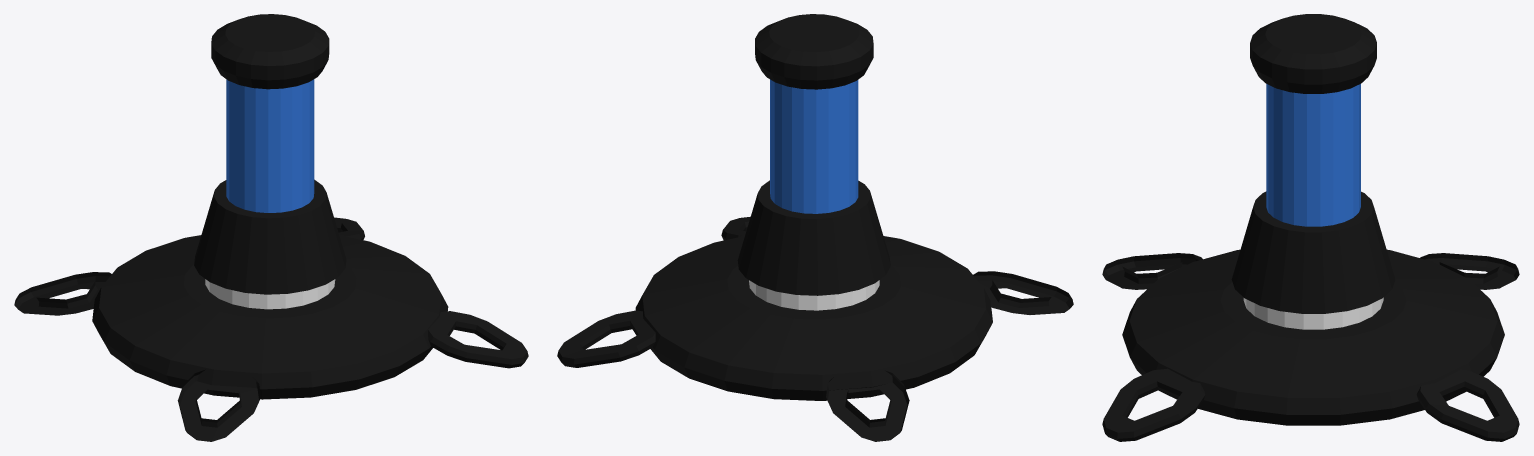
File: Latarnia.obj
3 views of the same model, side by side, from view 1: azimuth 30°, elevation 25°; view 2: azimuth 150°, elevation 25°; view 3: azimuth 270°, elevation 25° (orthographic). The views are drawn at different scales.
Parts seen in each view (by area): view 1: Cube.001_Cube.002; view 2: Cube.001_Cube.002; view 3: Cube.001_Cube.002.
Part boxes in pixels (x1,y1,x2,y2): Cube.001_Cube.002: [14, 14, 528, 441]; Cube.001_Cube.002: [557, 14, 1073, 441]; Cube.001_Cube.002: [1102, 14, 1519, 441].
Size of the model in its own units: 3.33 by 2.84 by 3.33.
Materials: 1 (1 with a texture image).
